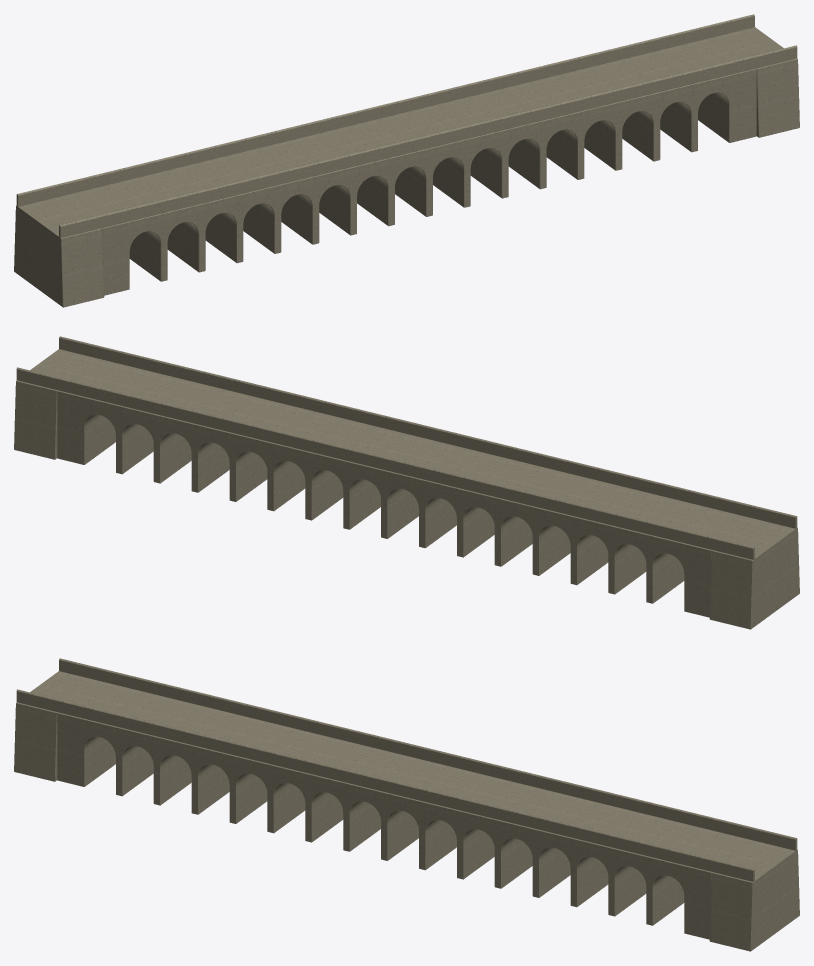
The model's file is duero69_puentenuevo512.glb.
3 renders of one model, top to bottom at view 1: azimuth 30°, elevation 25°; view 2: azimuth 150°, elevation 25°; view 3: azimuth 330°, elevation 25°, orthographic.
Visible parts, largest first — view 1: puente_moderno68_ModernBridge68_CC0_cast_formboard_concrete; view 2: puente_moderno68_ModernBridge68_CC0_cast_formboard_concrete; view 3: puente_moderno68_ModernBridge68_CC0_cast_formboard_concrete.
Boxes of the visible parts, x1,y1,x2,y2 form: puente_moderno68_ModernBridge68_CC0_cast_formboard_concrete: (14,14,799,307); puente_moderno68_ModernBridge68_CC0_cast_formboard_concrete: (14,336,799,629); puente_moderno68_ModernBridge68_CC0_cast_formboard_concrete: (14,658,799,951).
Size of the model in its own units: 53.5 by 5.55 by 6.2.
Materials: 1 (1 with a texture image).
